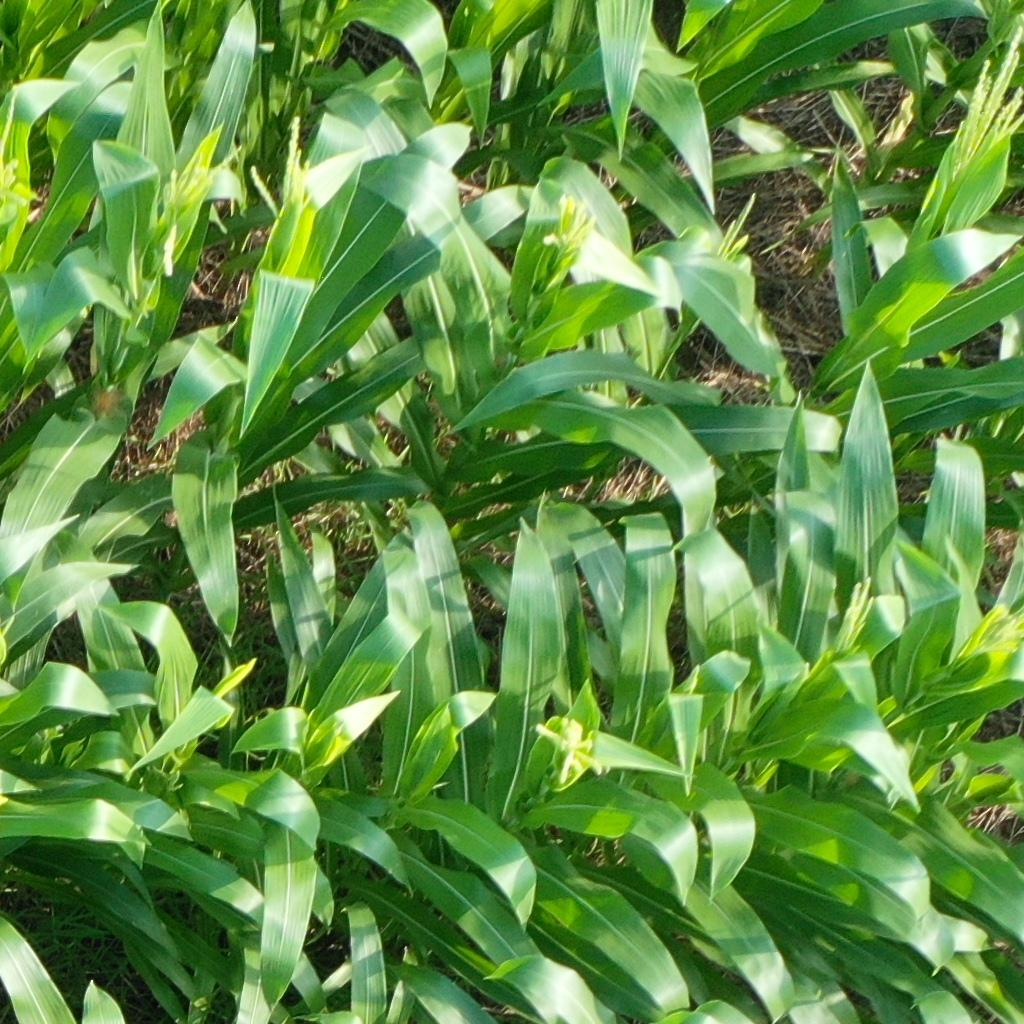Tassel: (150, 138, 241, 287), (944, 13, 1024, 175), (246, 111, 322, 216), (530, 714, 608, 787), (828, 574, 883, 656), (544, 196, 603, 256), (1, 86, 29, 209), (717, 189, 754, 266), (975, 599, 1024, 653)
